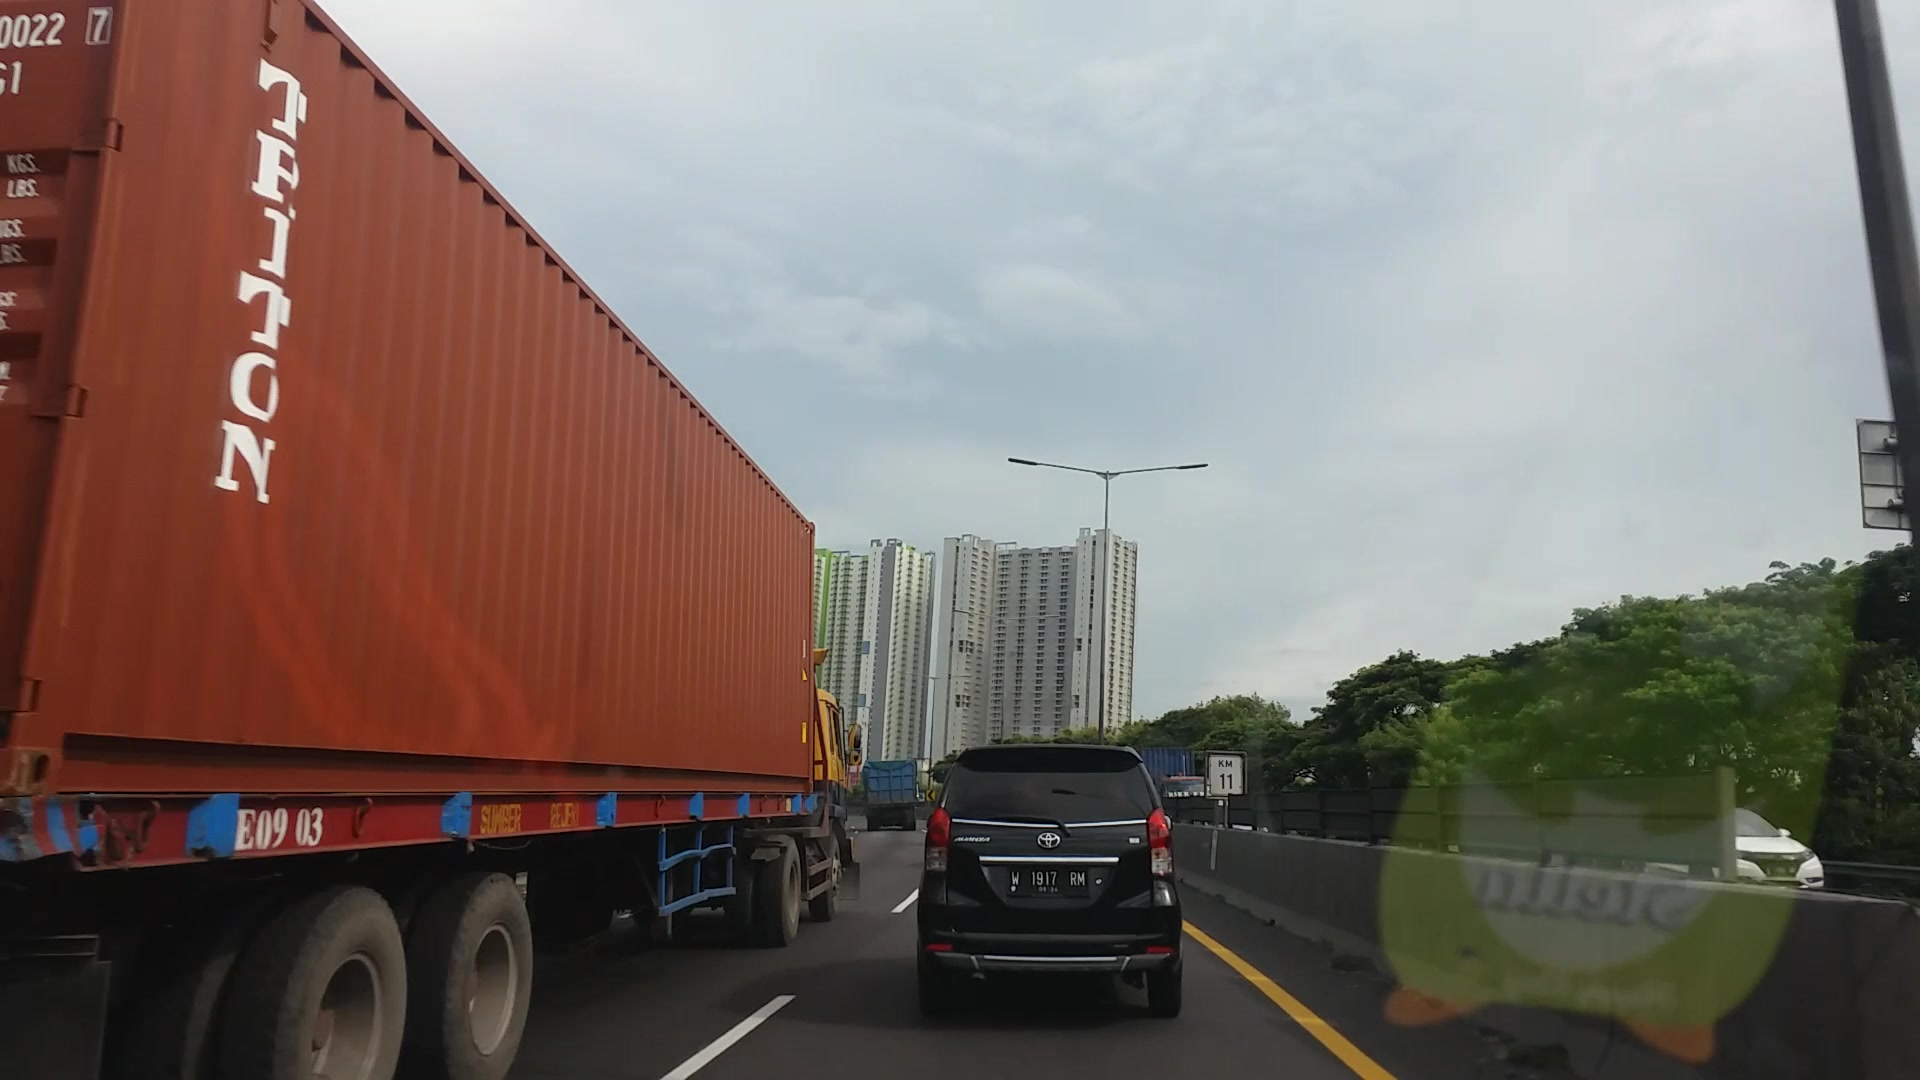plate_positive: (1007, 865, 1091, 898)
